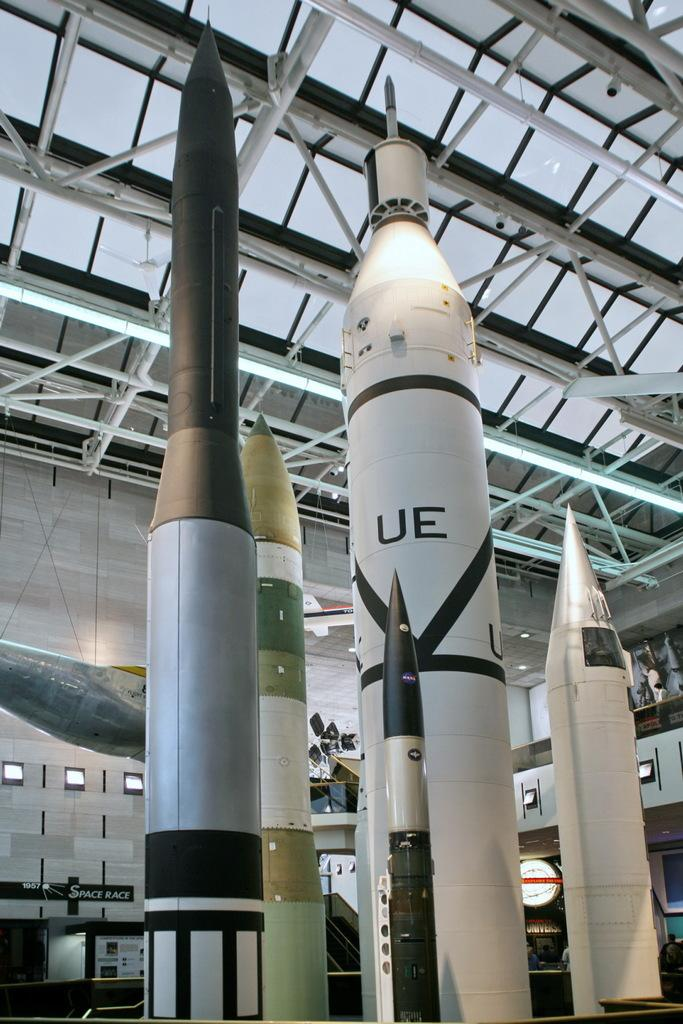Missile: (348, 72, 544, 1023), (139, 4, 264, 1023), (231, 416, 329, 1023), (553, 507, 666, 1018)
